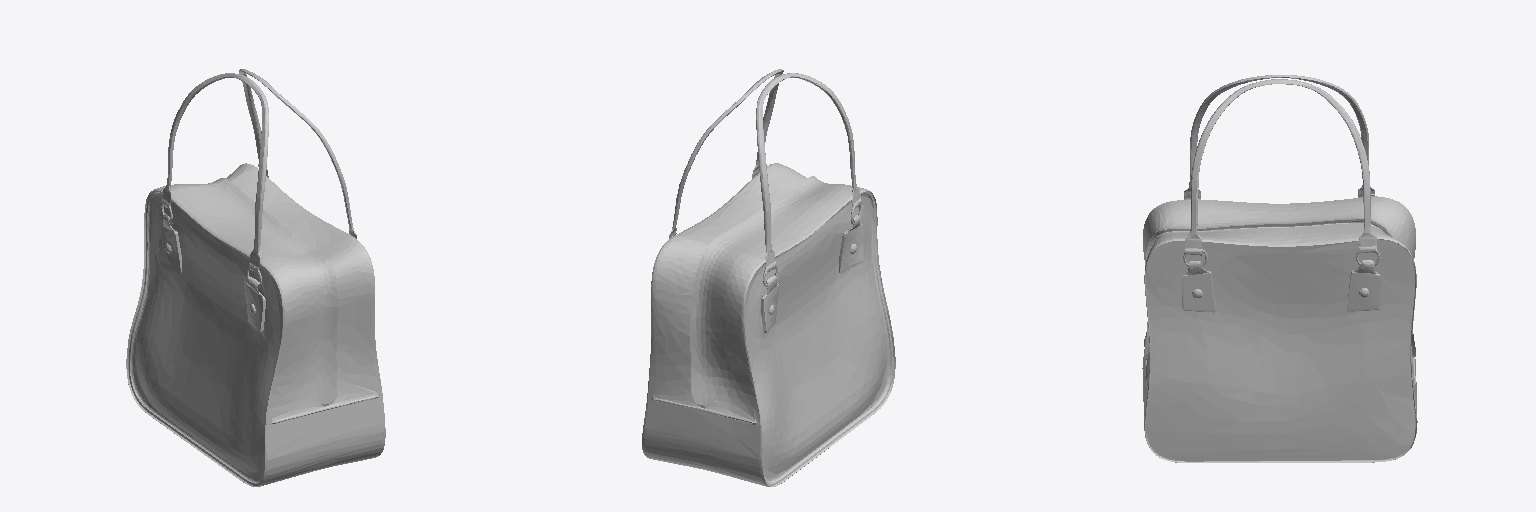
The model's file is small_bag_brown.obj.
3 renders of one model, left to right at view 1: azimuth 30°, elevation 25°; view 2: azimuth 150°, elevation 25°; view 3: azimuth 270°, elevation 25°, orthographic.
Visible parts, largest first — view 1: Box001; view 2: Box001; view 3: Box001.
Part boxes in pixels (bbox=[...]): Box001: bbox=[126, 69, 385, 486]; Box001: bbox=[642, 69, 895, 486]; Box001: bbox=[1142, 75, 1417, 462].
Size of the model in its own units: 0.0099 by 0.0271 by 0.019.